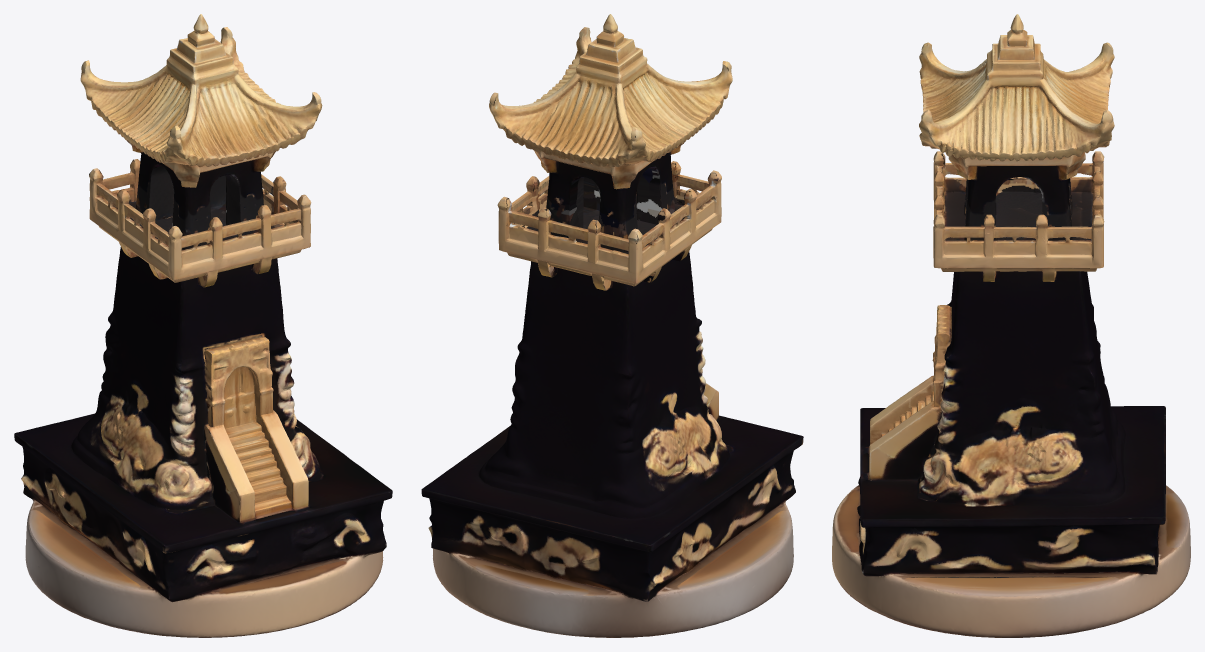
Rendered from rook_black.glb.
3 views of the same model, side by side, from view 1: azimuth 30°, elevation 25°; view 2: azimuth 150°, elevation 25°; view 3: azimuth 270°, elevation 25° (orthographic).
Visible parts, largest first — view 1: model; view 2: model; view 3: model.
Part boxes in pixels (x1=…): model: x1=14, y1=14, x2=392, y2=637; model: x1=421, y1=14, x2=803, y2=637; model: x1=832, y1=14, x2=1190, y2=637.
Bounding box in the file's own units: 1.12 × 1.9 × 1.12.
Materials: 1 (1 with a texture image).
